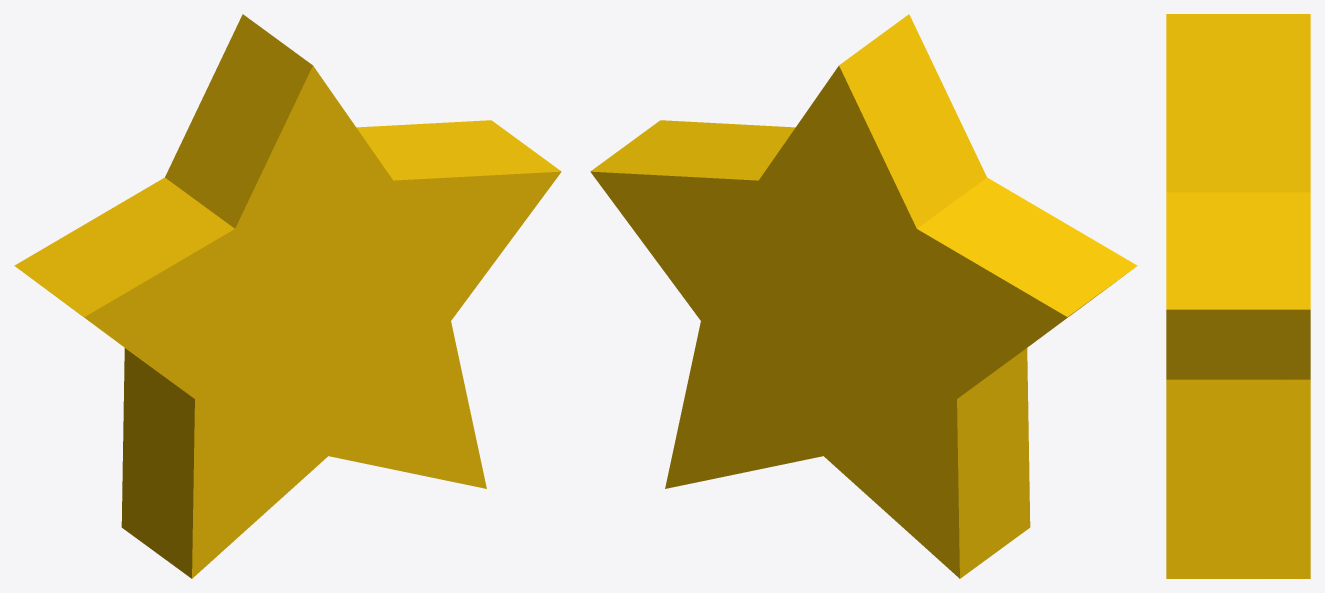
The model's file is star for pony .glb.
3 views of the same model, side by side, from view 1: azimuth 30°, elevation 25°; view 2: azimuth 150°, elevation 25°; view 3: azimuth 270°, elevation 25° (orthographic). The views are drawn at different scales.
Parts seen in each view (by area): view 1: pCylinder1; view 2: pCylinder1; view 3: pCylinder1.
Part boxes in pixels (x1,y1,x2,y2): pCylinder1: (14, 14, 561, 578); pCylinder1: (590, 14, 1137, 578); pCylinder1: (1166, 14, 1310, 578).
Bounding box in the file's own units: 0.0313 × 0.0303 × 0.00797.
